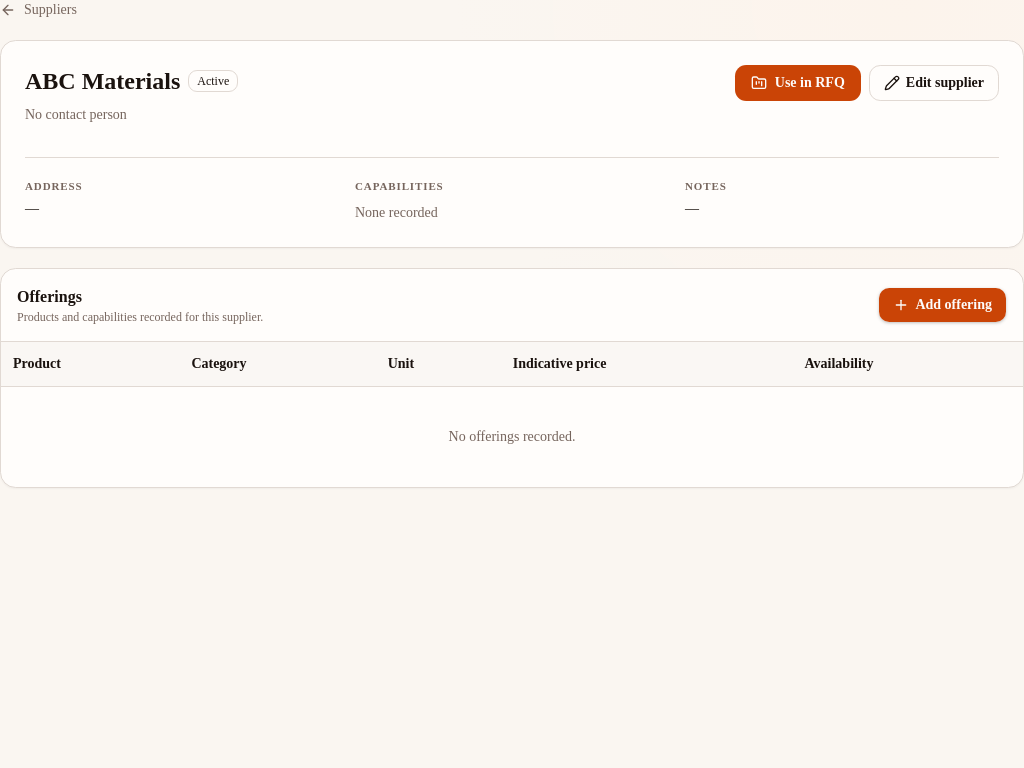
Scenario: SupplierDetail offering form › maps a body.indicativePriceAsOf 422 error from the backend onto the price-as-of field
Step 1. Click the button "Add offering" → (943, 304), box [878,286,1007,322]
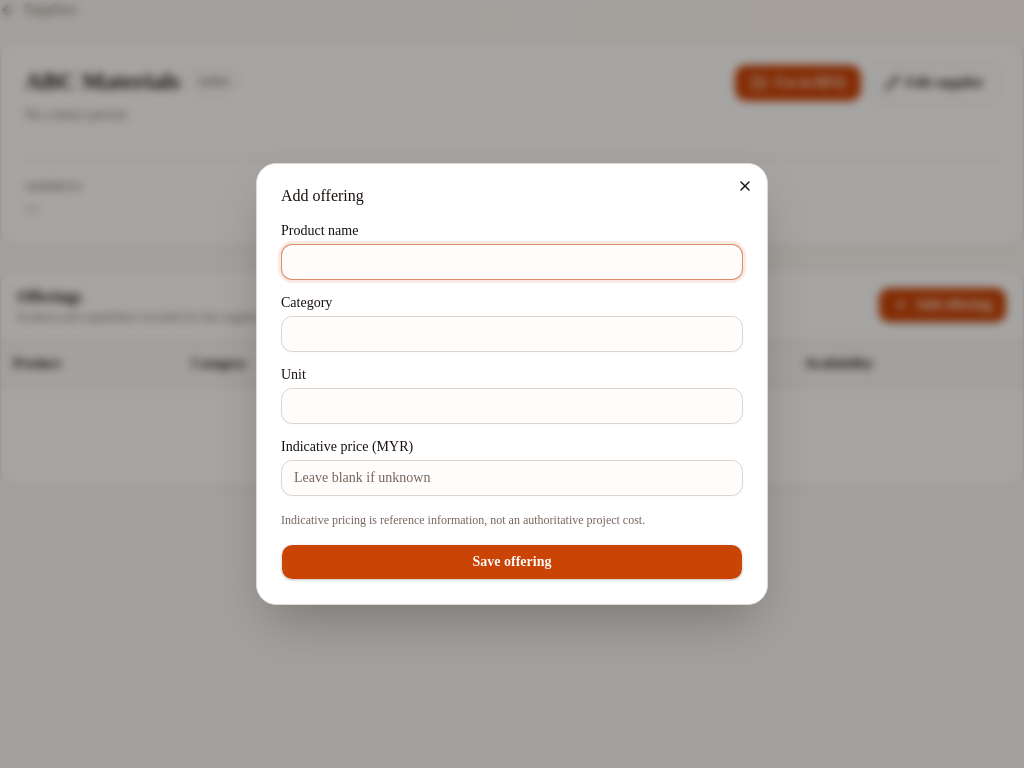
Step 2. Type "OPC Cement" into the field named "productName" below "Product name" → (512, 262), box [281,244,743,280]
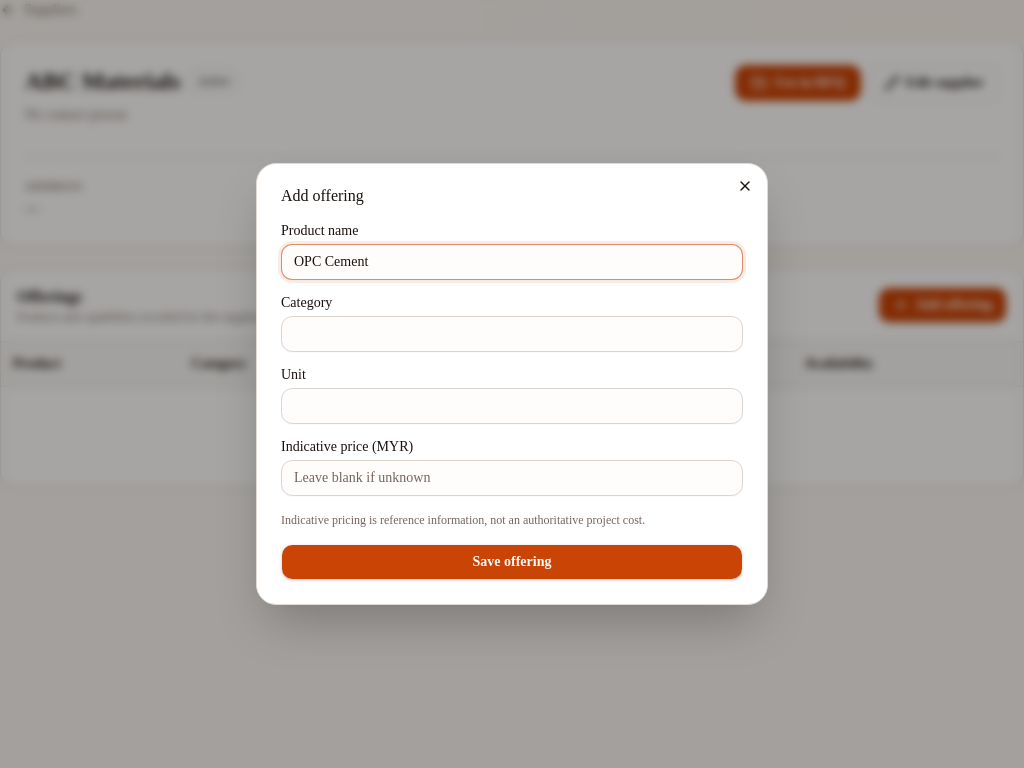
Step 3. Type "bag" into the 3rd field named "unit" → (512, 406), box [281,388,743,424]
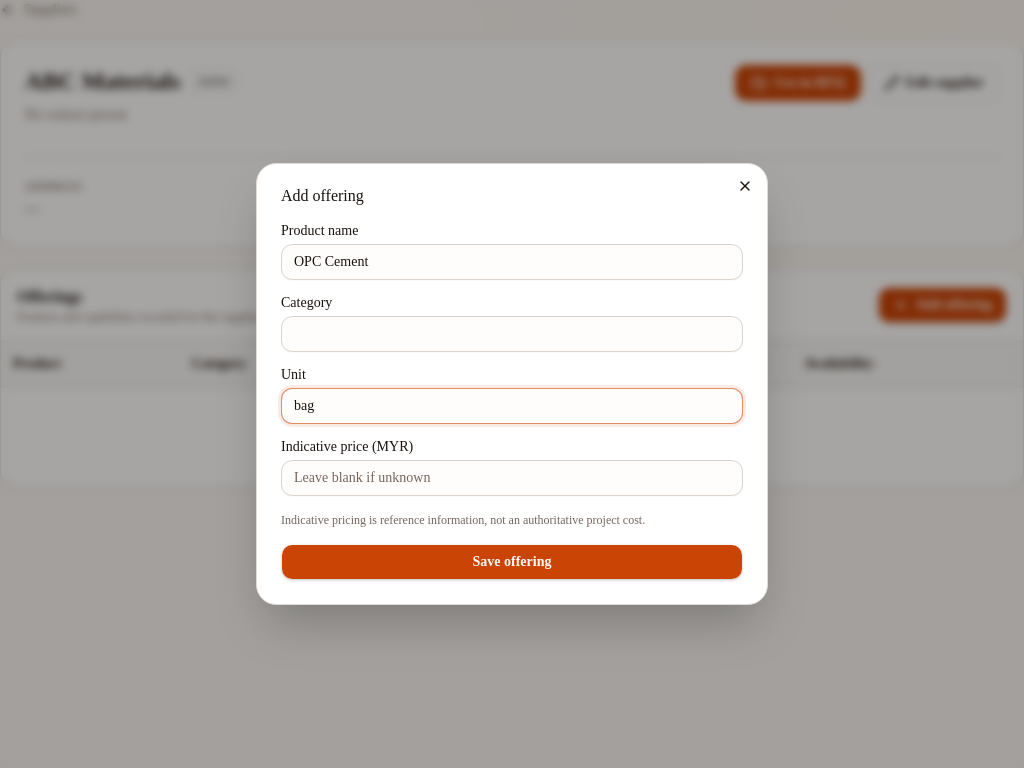
Step 4. Type "100.00" into the field named "price" → (512, 478), box [281,460,743,496]
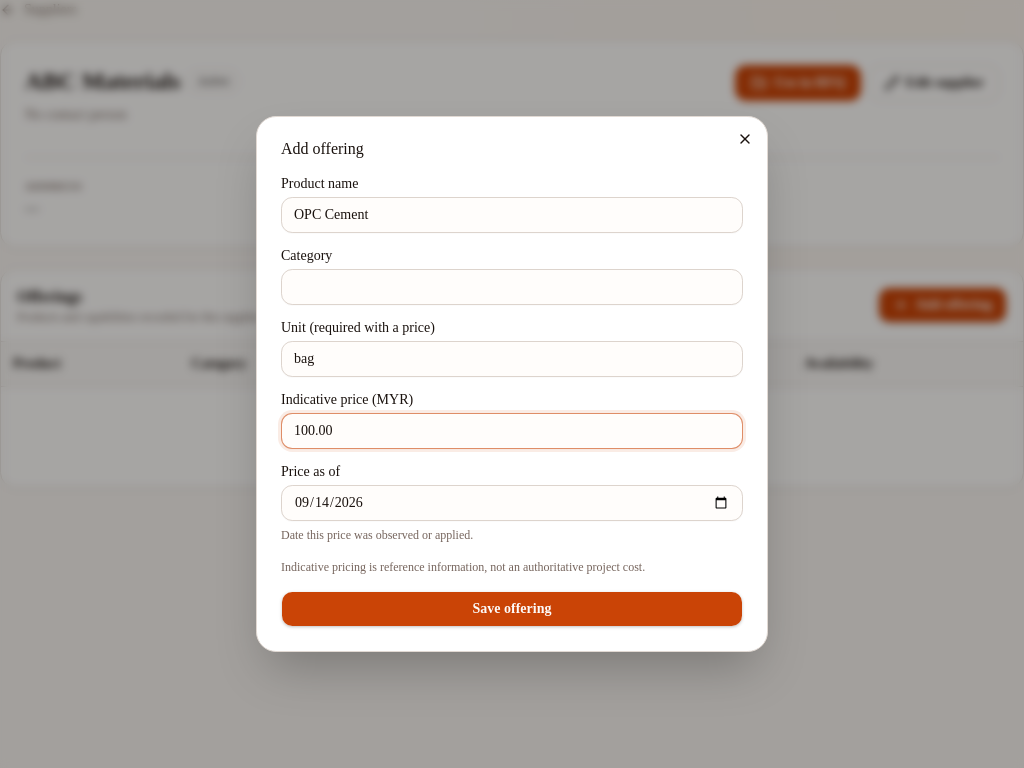
Step 5. Click the button "Save offering" → (512, 609), box [281,591,743,627]
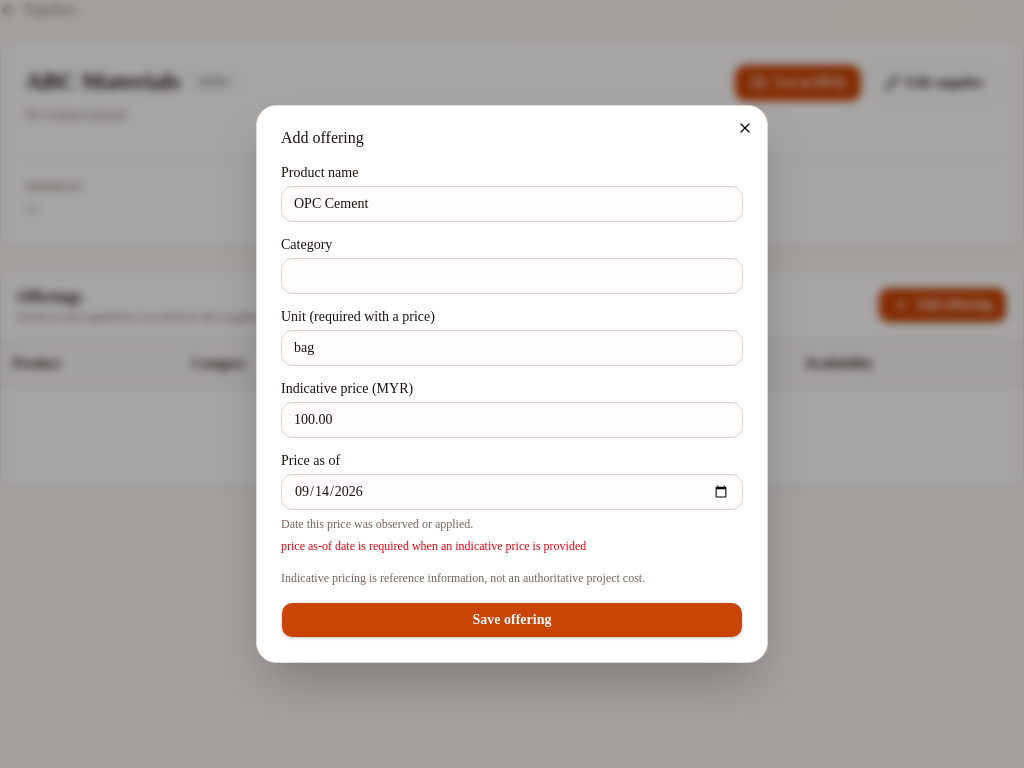
Check: the text "price as-of date is required when an indicative price is provided" is shown, box [281,539,586,553]
